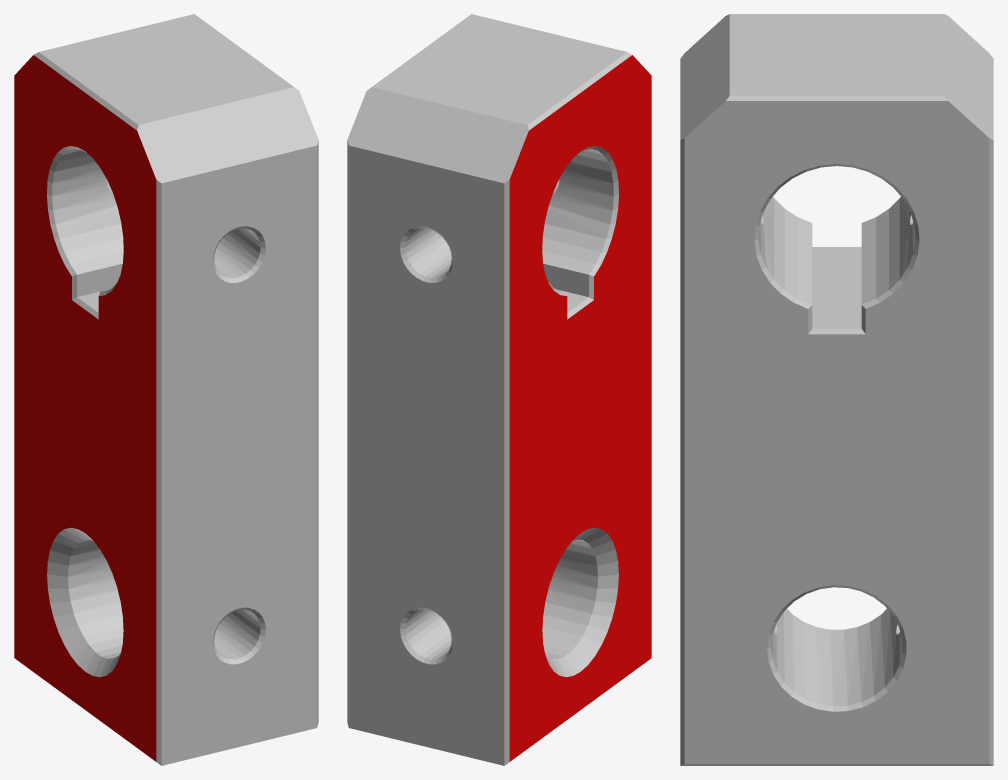
Rendered from 7_stp_6.obj.
3 renders of one model, left to right at view 1: azimuth 30°, elevation 25°; view 2: azimuth 150°, elevation 25°; view 3: azimuth 270°, elevation 25°, orthographic. The views are drawn at different scales.
Parts seen in each view (by area): view 1: Object1; view 2: Object1; view 3: Object1.
Part boxes in pixels (left/top/right/bottom): Object1: left=14, top=14, right=318, bottom=765; Object1: left=347, top=14, right=651, bottom=765; Object1: left=680, top=14, right=993, bottom=765.
Size of the model in its own units: 24.5 by 90 by 38.1.
